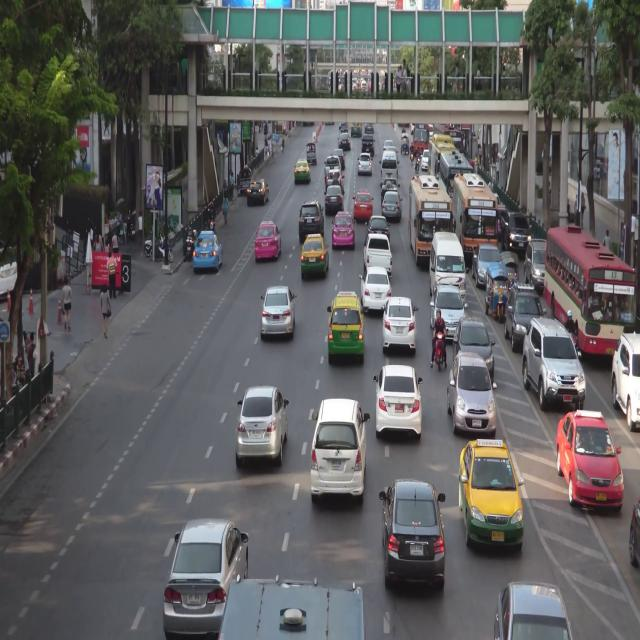bus: (547, 228, 637, 359), (410, 176, 454, 267), (453, 177, 499, 264), (438, 151, 474, 216), (436, 121, 463, 181), (429, 134, 455, 191), (413, 122, 430, 153)
car: (173, 521, 247, 629), (383, 483, 446, 589), (524, 318, 586, 408), (310, 399, 366, 497), (493, 580, 573, 640), (237, 388, 290, 467), (449, 356, 497, 432), (377, 366, 423, 439), (611, 330, 640, 429), (454, 318, 494, 385), (430, 233, 467, 303), (508, 280, 540, 350), (383, 297, 416, 352), (432, 287, 467, 338), (262, 288, 296, 336), (360, 267, 392, 312), (363, 234, 394, 274), (475, 241, 502, 286), (487, 262, 509, 315), (503, 208, 528, 253), (526, 236, 547, 289), (299, 199, 324, 240), (0, 246, 18, 296), (629, 492, 640, 571), (501, 250, 520, 288), (382, 151, 399, 190), (367, 215, 390, 241), (324, 184, 343, 214), (383, 192, 401, 221), (249, 177, 269, 203), (382, 177, 398, 200), (239, 167, 251, 194), (324, 157, 341, 176), (358, 152, 371, 175), (326, 169, 342, 187), (398, 132, 410, 155), (362, 134, 374, 156), (331, 147, 344, 167), (306, 143, 316, 168), (337, 131, 350, 148), (383, 140, 394, 153), (422, 151, 429, 171)
pedestrian: (100, 282, 112, 340), (63, 273, 73, 332), (107, 249, 117, 299), (27, 331, 37, 379), (94, 223, 105, 260), (222, 190, 229, 225), (112, 227, 119, 256), (603, 225, 611, 249), (270, 141, 277, 165), (138, 209, 143, 240), (229, 170, 234, 200), (582, 186, 586, 221), (574, 190, 579, 216), (223, 179, 228, 202), (264, 133, 268, 157), (281, 133, 285, 154), (268, 135, 271, 154), (270, 135, 273, 154), (255, 145, 259, 156)
taxi: (459, 440, 524, 556), (558, 411, 624, 515), (329, 288, 366, 360), (194, 230, 223, 274), (301, 234, 330, 276), (255, 221, 282, 260), (333, 209, 356, 249), (354, 191, 372, 223), (295, 157, 311, 183)
